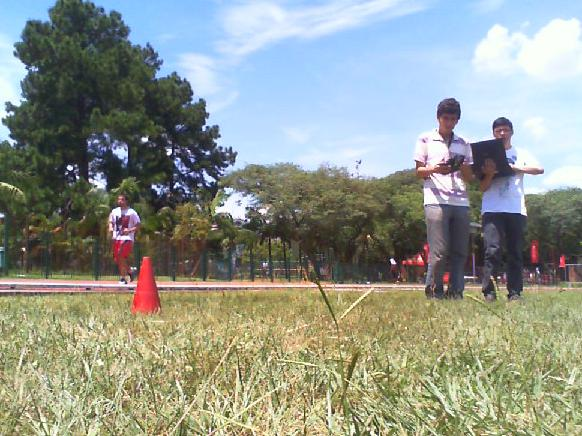0 cone: (130, 256, 163, 315)
